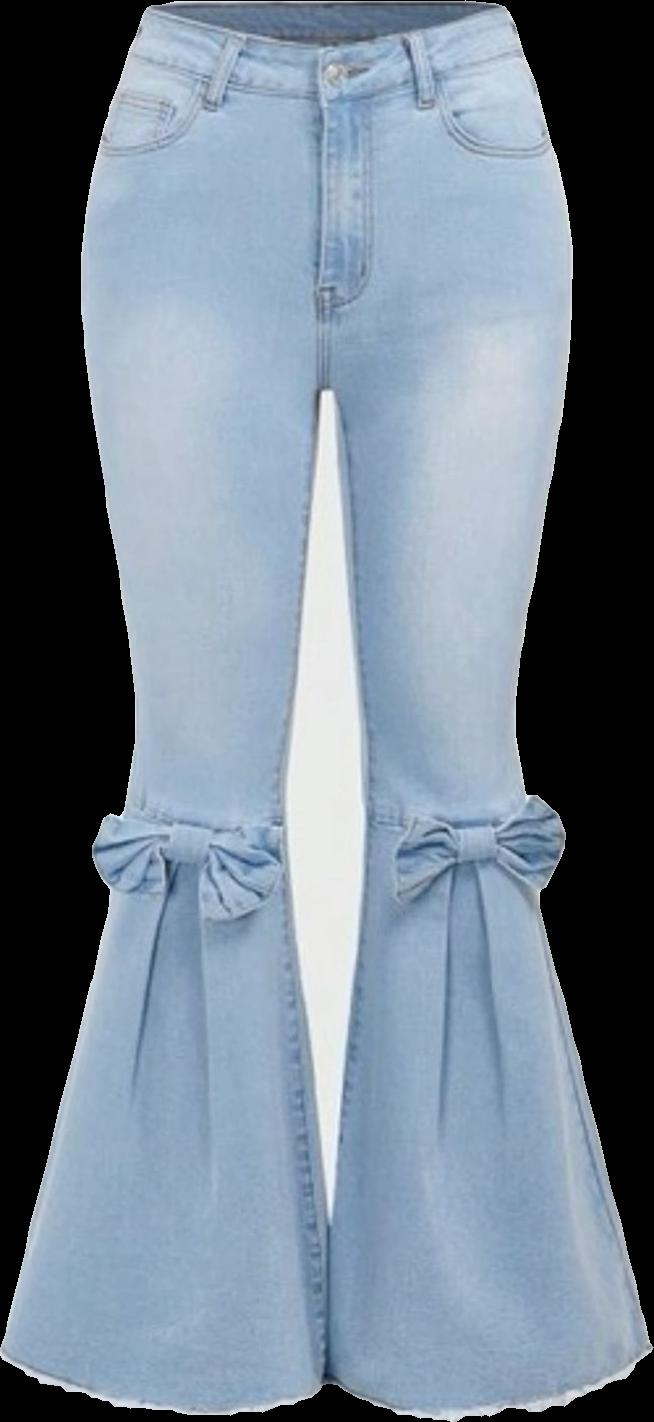Hemline: (321, 1338, 653, 1420), (0, 1343, 336, 1421)
Pantleg: (312, 1, 651, 1418), (0, 4, 329, 1415)
Waistline: (122, 41, 526, 111), (143, 0, 510, 56), (364, 797, 543, 837), (117, 797, 287, 832)
